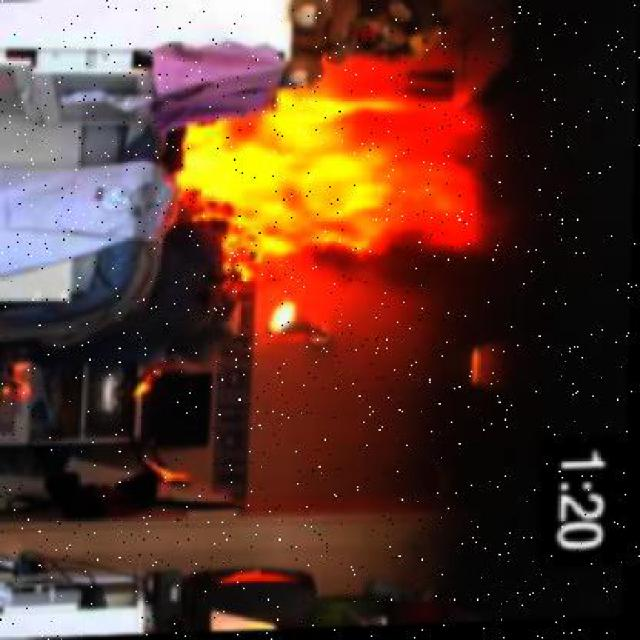fire: (174, 51, 520, 297)
